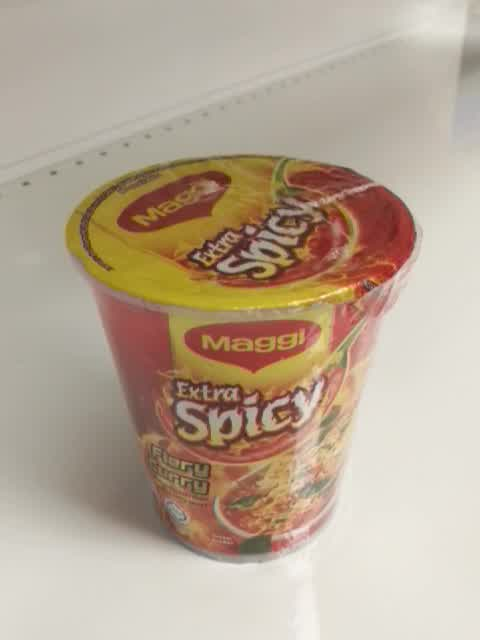maggi: (63, 153, 423, 565)
